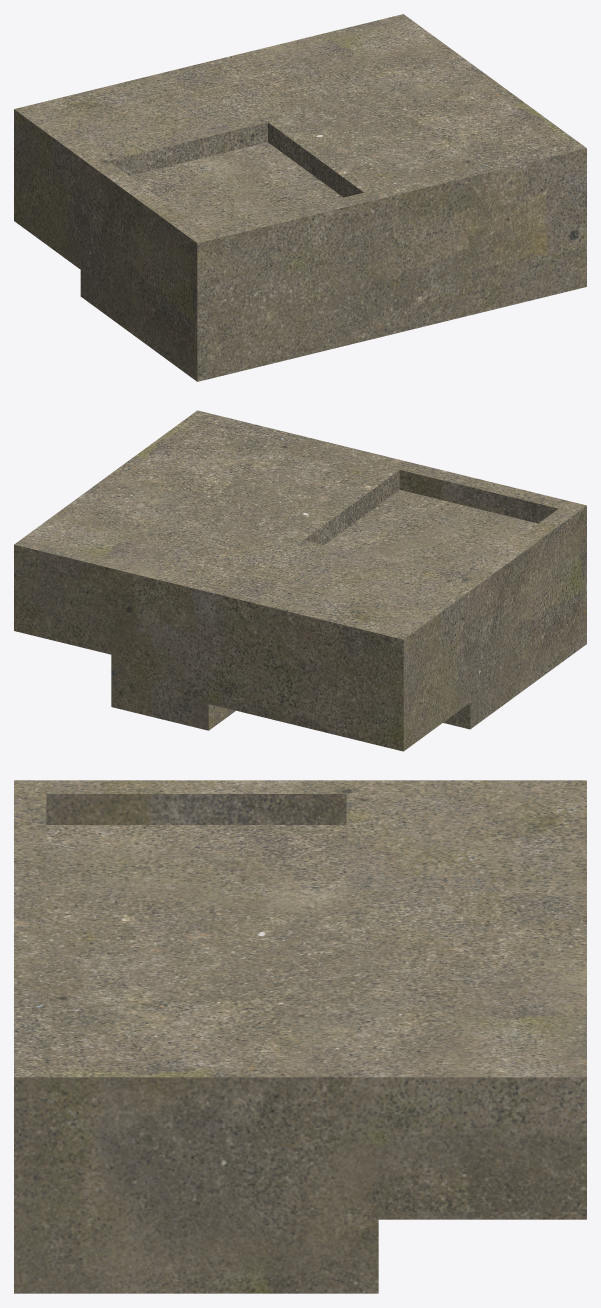
The model's file is blender lightmap test.fbx.
The picture shows the model from 3 angles, top to bottom: view 1: azimuth 30°, elevation 25°; view 2: azimuth 150°, elevation 25°; view 3: azimuth 270°, elevation 25°; orthographic projection. The views are drawn at different scales.
Visible parts, largest first — view 1: Cube; view 2: Cube; view 3: Cube.
Boxes of the visible parts, <box> form: Cube: <box>14,14,586,381</box>; Cube: <box>14,410,586,751</box>; Cube: <box>14,780,586,1293</box>.
Bounding box in the file's own units: 588 × 200 × 480.
Materials: 1 (1 with a texture image).
